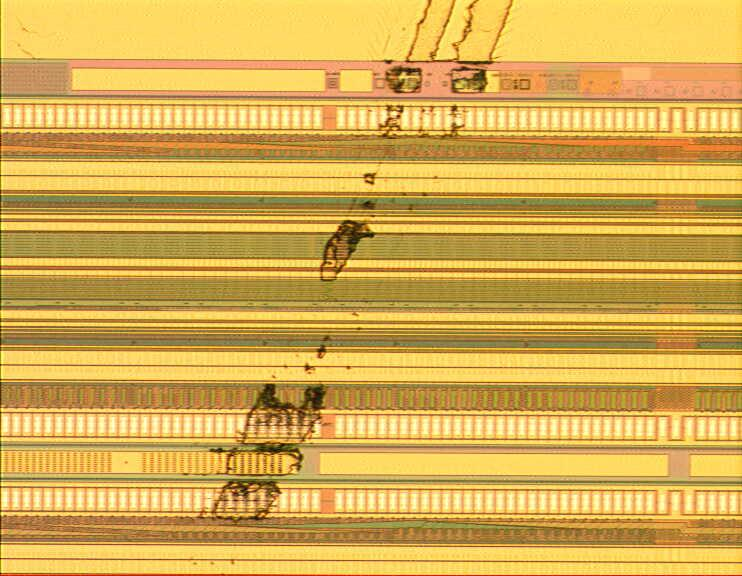SCRATCH: (188, 1, 525, 560)
